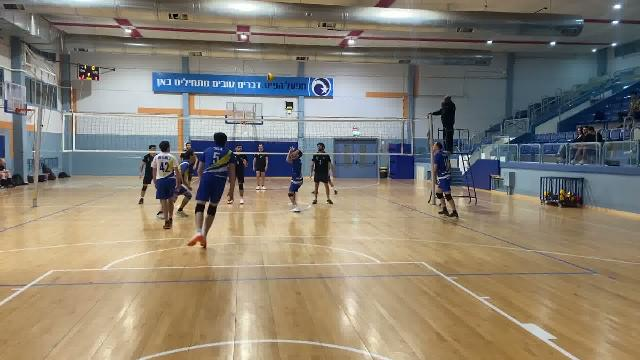ball: (264, 73, 275, 81)
